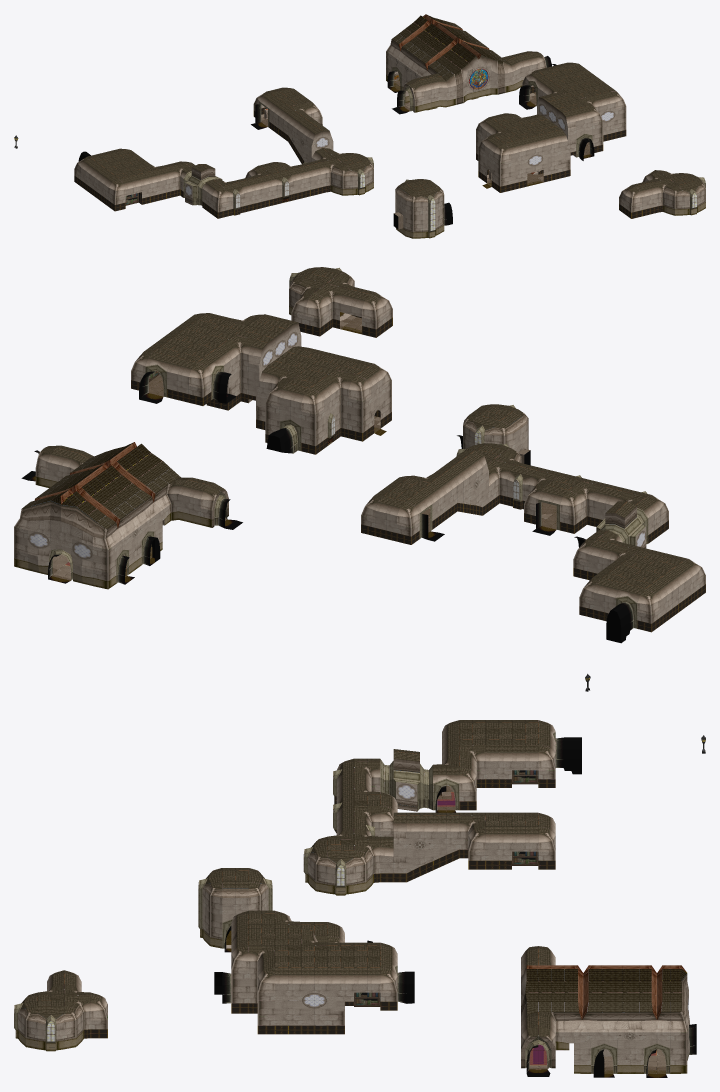
The picture shows the model from 3 angles, top to bottom: view 1: azimuth 30°, elevation 25°; view 2: azimuth 150°, elevation 25°; view 3: azimuth 270°, elevation 25°; orthographic projection. The views are drawn at different scales.
Visible parts, largest first — view 1: T1L1M001_77, T1L1M001_78, T1L1M001_322, T1L1M001_75, T1L1M001_79, T1L1M001_140, T1L1M001_76, T1L1M001_326, T1L1M001_12, T1L1M001_147, T1L1M001_7, T1L1M001_72 (+3 smaller); view 2: T1L1M001_5, T1L1M001_3, T1L1M001_4, T1L1M001_2, T1L1M001_17, T1L1M001_12, T1L1M001_239, T1L1M001_23, T1L1M001_45, T1L1M001_155, T1L1M001_48, T1L1M001_144 (+7 smaller); view 3: T1L1M001_30, T1L1M001_16, T1L1M001_21, T1L1M001_11, T1L1M001_133, T1L1M001_6, T1L1M001_29, T1L1M001_141, T1L1M001_149, T1L1M001_126, T1L1M001_138, T1L1M001_15 (+26 smaller).
Part boxes in pixels (bbox=[...]): T1L1M001_77: bbox=[460, 48, 485, 100]; T1L1M001_78: bbox=[474, 49, 505, 95]; T1L1M001_322: bbox=[554, 110, 576, 148]; T1L1M001_75: bbox=[434, 71, 456, 107]; T1L1M001_79: bbox=[499, 57, 521, 92]; T1L1M001_140: bbox=[188, 166, 209, 205]; T1L1M001_76: bbox=[450, 60, 468, 104]; T1L1M001_326: bbox=[576, 123, 594, 158]; T1L1M001_12: bbox=[397, 41, 419, 90]; T1L1M001_147: bbox=[307, 127, 326, 162]; T1L1M001_7: bbox=[387, 37, 405, 92]; T1L1M001_72: bbox=[401, 80, 423, 112]; T1L1M001_5: bbox=[27, 493, 64, 574]; T1L1M001_3: bbox=[72, 503, 107, 586]; T1L1M001_4: bbox=[48, 492, 82, 583]; T1L1M001_2: bbox=[93, 518, 116, 589]; T1L1M001_17: bbox=[125, 494, 160, 565]; T1L1M001_12: bbox=[111, 501, 141, 574]; T1L1M001_239: bbox=[248, 340, 278, 391]; T1L1M001_23: bbox=[135, 481, 166, 555]; T1L1M001_45: bbox=[200, 485, 230, 528]; T1L1M001_155: bbox=[142, 352, 174, 401]; T1L1M001_48: bbox=[153, 472, 186, 525]; T1L1M001_144: bbox=[536, 485, 567, 532]; T1L1M001_30: bbox=[564, 1002, 604, 1073]; T1L1M001_16: bbox=[617, 1002, 656, 1073]; T1L1M001_21: bbox=[591, 1002, 630, 1077]; T1L1M001_11: bbox=[644, 1002, 670, 1077]; T1L1M001_133: bbox=[406, 752, 432, 811]; T1L1M001_6: bbox=[670, 1002, 688, 1073]; T1L1M001_29: bbox=[564, 969, 601, 1006]; T1L1M001_141: bbox=[380, 751, 406, 809]; T1L1M001_149: bbox=[380, 815, 406, 864]; T1L1M001_126: bbox=[433, 767, 459, 812]; T1L1M001_138: bbox=[406, 840, 432, 881]; T1L1M001_15: bbox=[623, 969, 651, 1001].
Bounding box in the file's own units: 118 × 18.5 × 105.
1 material, 1 textured.
